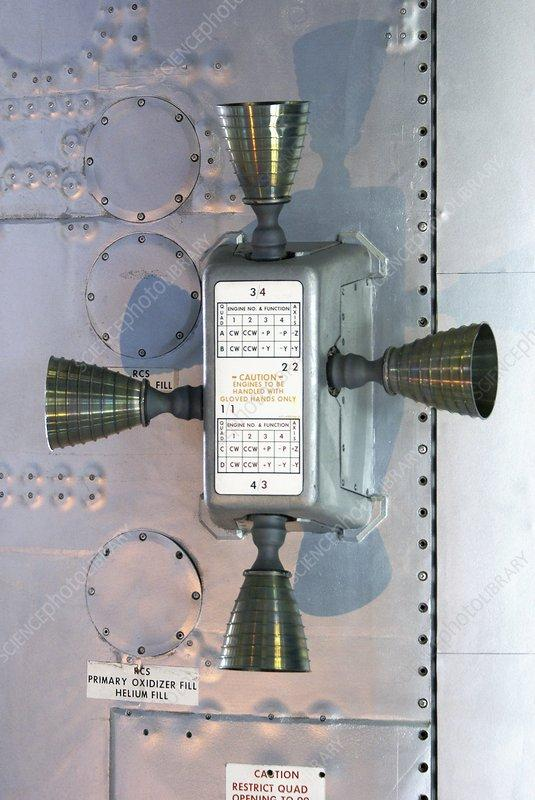thruster: (212, 509, 312, 673), (380, 319, 503, 423), (213, 98, 314, 208), (41, 353, 151, 453)
